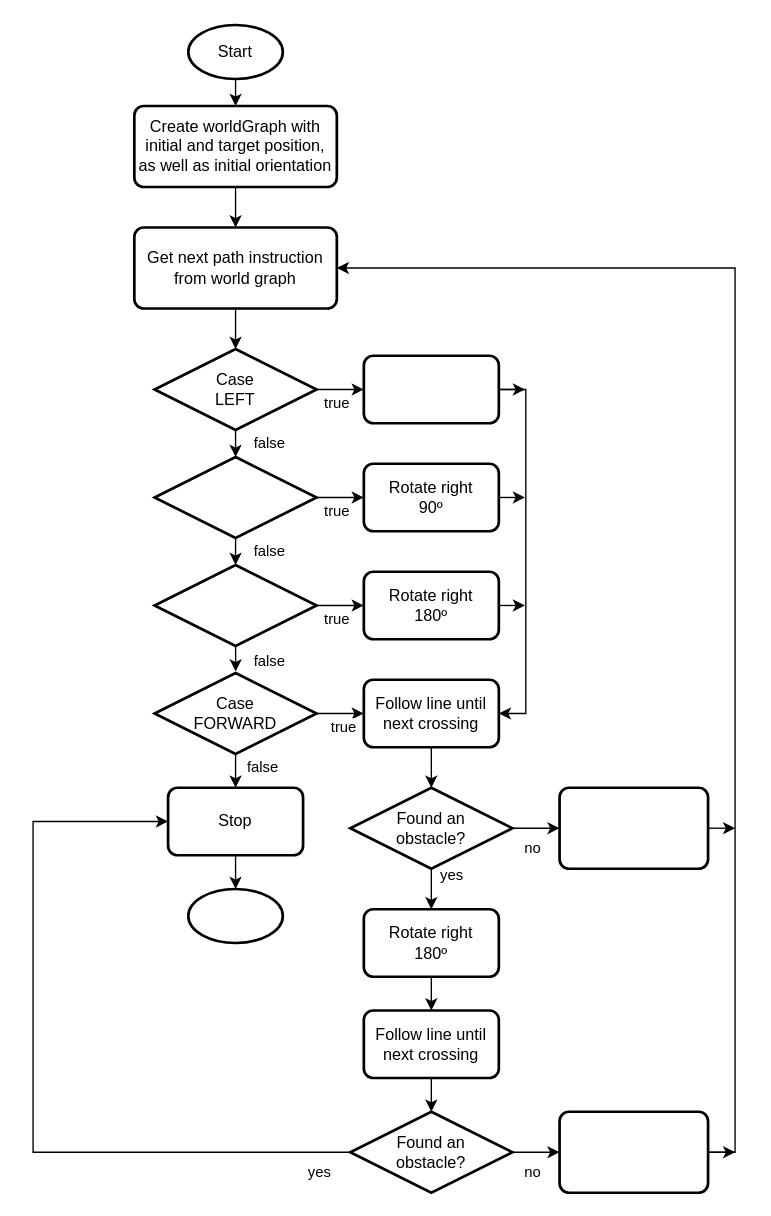
This 771x1216 diagram has some shape labels left out. Each missing label, with the centre of its shape:
Case BACKWARD: point (235, 605)
Case RIGHT: point (235, 497)
End: point (235, 915)
Rotate left 90º: point (431, 389)
Update worldGraph with completed instruction: point (633, 827)
Update worldGraph with failed instruction: point (633, 1151)
